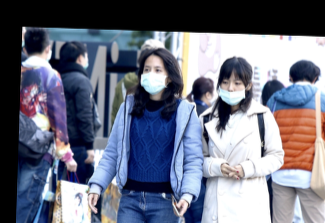mask_weared_incorrect: (218, 75, 248, 106)
with_mask: (139, 62, 167, 96)
